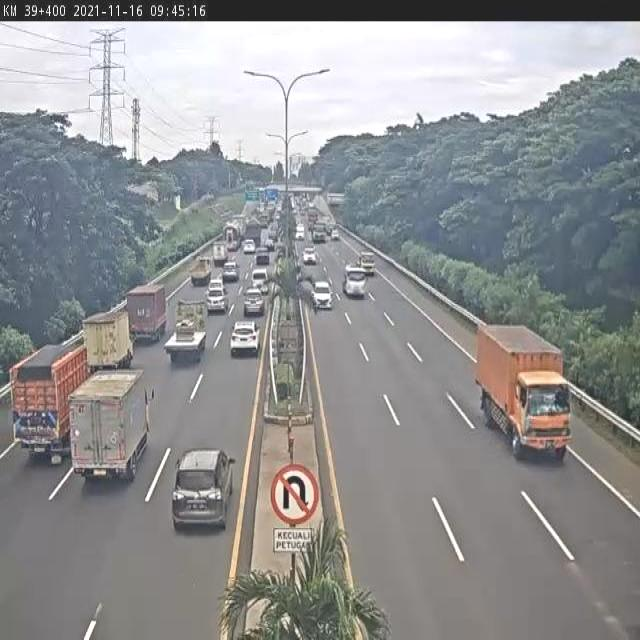Car: (170, 448, 236, 528), (230, 319, 261, 357), (206, 284, 229, 314), (243, 287, 265, 317), (311, 281, 332, 311), (222, 262, 240, 282), (206, 278, 224, 297), (300, 246, 316, 266), (255, 246, 270, 265), (243, 238, 256, 255), (274, 241, 286, 259), (295, 224, 305, 240), (264, 237, 275, 251), (330, 229, 340, 242)
Truck: (477, 322, 571, 461), (10, 338, 90, 462), (70, 370, 152, 480), (82, 308, 134, 374), (162, 301, 208, 360), (126, 284, 166, 343), (341, 265, 368, 299), (190, 256, 213, 286), (223, 221, 241, 252), (357, 251, 376, 277), (244, 216, 261, 242), (212, 240, 228, 267), (230, 213, 246, 240), (311, 218, 327, 244), (306, 209, 319, 231), (256, 210, 270, 228), (266, 204, 276, 223)
Van: (250, 269, 270, 296)
